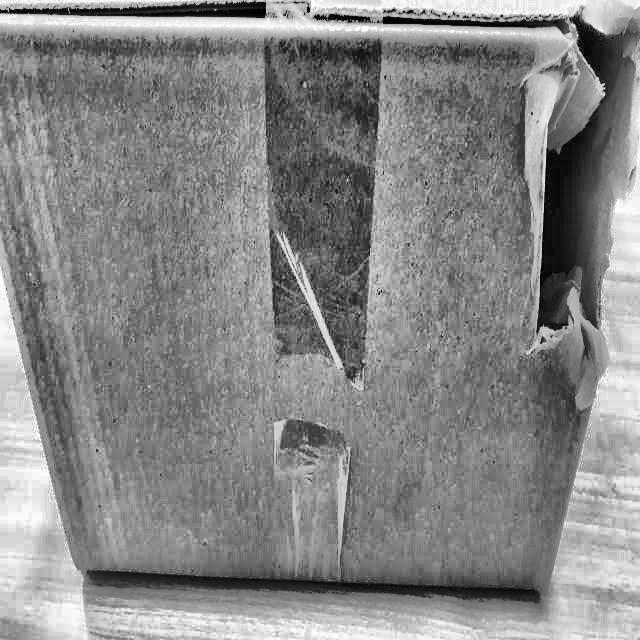box: (0, 0, 639, 611)
hole: (519, 4, 639, 365)
